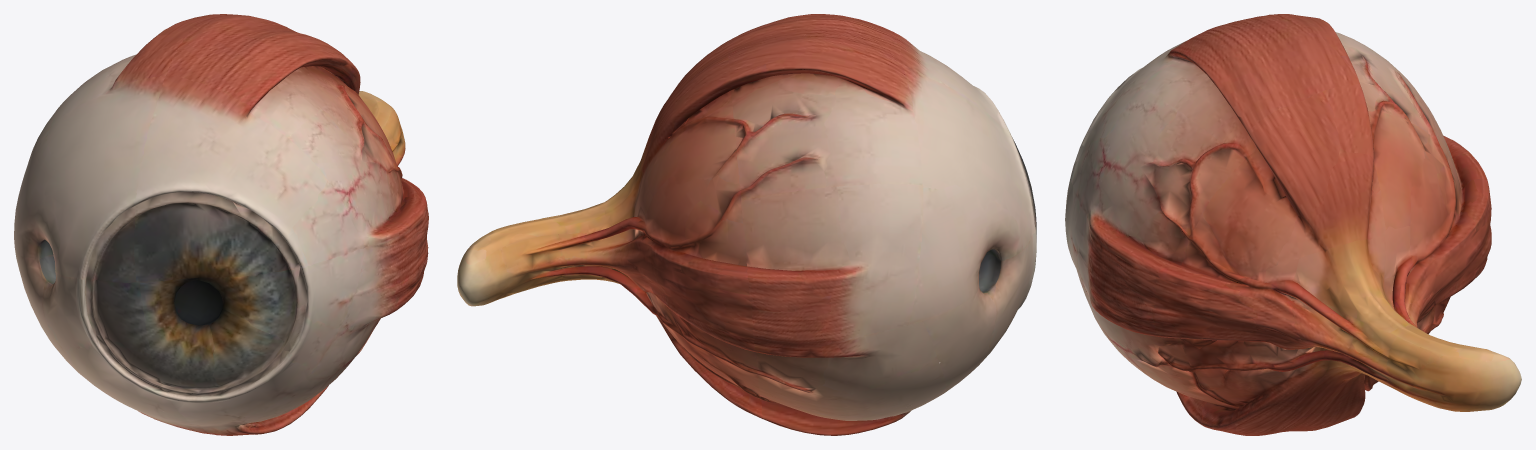
Rendered from eyeball-lod1.glb.
The picture shows the model from 3 angles, left to right: view 1: azimuth 30°, elevation 25°; view 2: azimuth 150°, elevation 25°; view 3: azimuth 270°, elevation 25°; orthographic projection. The views are drawn at different scales.
Parts seen in each view (by area): view 1: tripo_node_ebf243bf-d3b6-4331-9960-3b03130a2b84; view 2: tripo_node_ebf243bf-d3b6-4331-9960-3b03130a2b84; view 3: tripo_node_ebf243bf-d3b6-4331-9960-3b03130a2b84.
Part boxes in pixels (x1=…): tripo_node_ebf243bf-d3b6-4331-9960-3b03130a2b84: x1=14, y1=14, x2=428, y2=435; tripo_node_ebf243bf-d3b6-4331-9960-3b03130a2b84: x1=457, y1=14, x2=1036, y2=435; tripo_node_ebf243bf-d3b6-4331-9960-3b03130a2b84: x1=1065, y1=14, x2=1521, y2=435.
Size of the model in its own units: 0.9793 by 0.8045 by 0.8529.
Materials: 1 (1 with a texture image).
